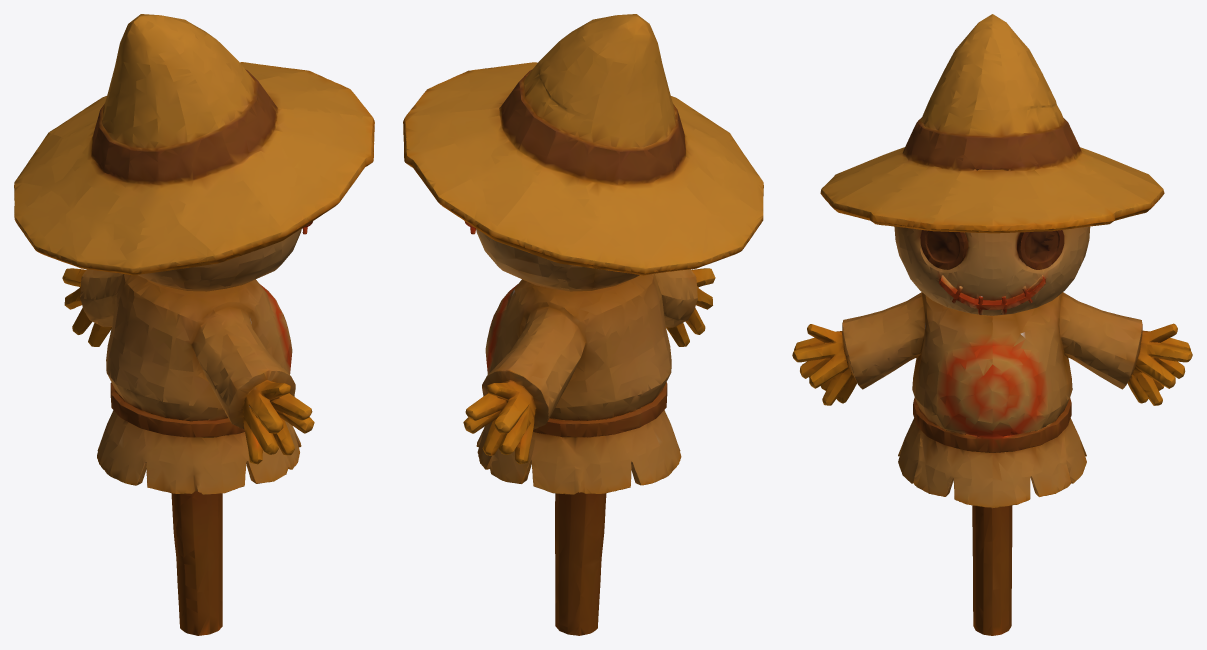
The model's file is Scarecrow.fbx.
3 renders of one model, left to right at view 1: azimuth 30°, elevation 25°; view 2: azimuth 150°, elevation 25°; view 3: azimuth 270°, elevation 25°, orthographic. The views are drawn at different scales.
Visible parts, largest first — view 1: tripo_node_71771daf.001; view 2: tripo_node_71771daf.001; view 3: tripo_node_71771daf.001.
Part boxes in pixels (x1,y1,x2,y2): tripo_node_71771daf.001: (14,14,374,635); tripo_node_71771daf.001: (403,14,763,635); tripo_node_71771daf.001: (792,14,1192,635).
Size of the model in its own units: 53.02 by 99.98 by 61.96.
